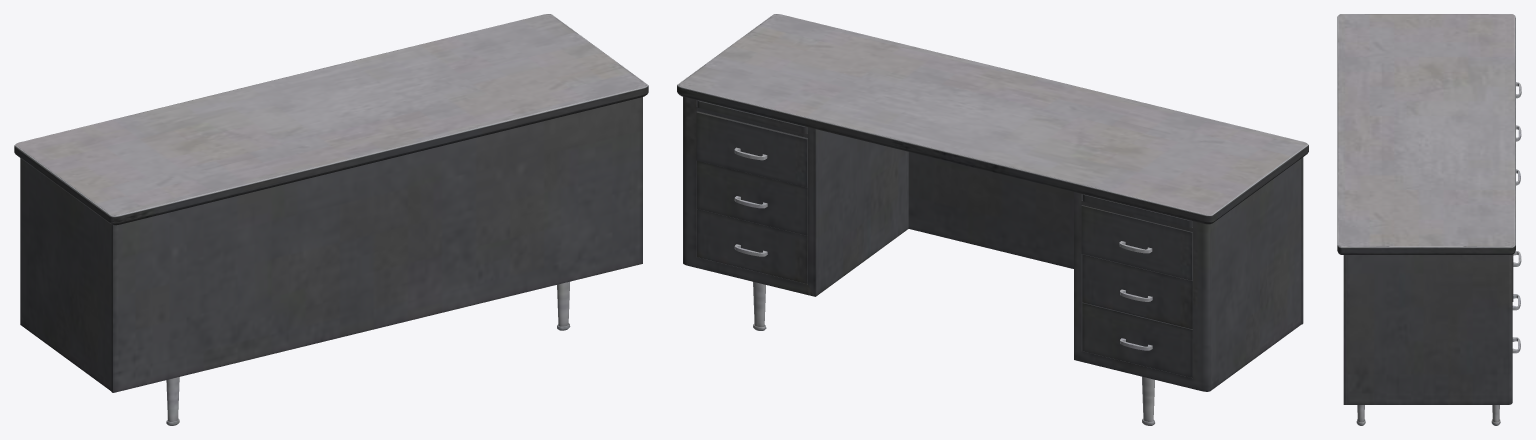
Rendered from meja.glb.
3 renders of one model, left to right at view 1: azimuth 30°, elevation 25°; view 2: azimuth 150°, elevation 25°; view 3: azimuth 270°, elevation 25°, orthographic. The views are drawn at different scales.
Visible parts, largest first — view 1: metal_office_desk; view 2: metal_office_desk, metal_office_desk_drawer_04, metal_office_desk_drawer_01, metal_office_desk_drawer_03, metal_office_desk_drawer_02, metal_office_desk_drawer_06, metal_office_desk_drawer_05, metal_office_desk_tray_01, metal_office_desk_tray_02; view 3: metal_office_desk.
Boxes of the visible parts, x1,y1,x2,y2 form: metal_office_desk: [14, 14, 648, 425]; metal_office_desk: [677, 14, 1308, 425]; metal_office_desk_drawer_04: [696, 111, 807, 187]; metal_office_desk_drawer_01: [1081, 205, 1192, 280]; metal_office_desk_drawer_03: [1082, 302, 1192, 377]; metal_office_desk_drawer_02: [1082, 254, 1192, 329]; metal_office_desk_drawer_06: [697, 209, 807, 283]; metal_office_desk_drawer_05: [697, 161, 807, 235]; metal_office_desk_tray_01: [697, 100, 807, 133]; metal_office_desk_tray_02: [1082, 194, 1192, 227]; metal_office_desk: [1337, 14, 1515, 425].
Size of the model in its own units: 1.8 by 0.75 by 0.6.
1 material, 1 textured.
